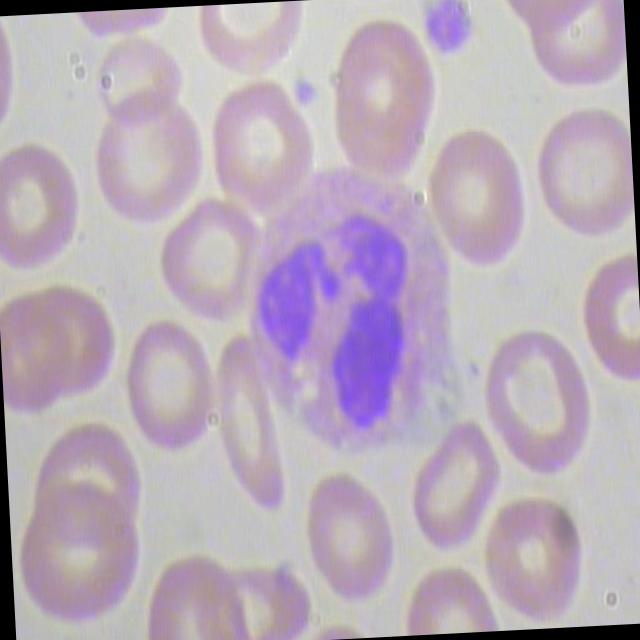Platelets: (419, 0, 478, 67), (288, 77, 325, 109)
RBC: (474, 318, 604, 486), (418, 121, 534, 290), (10, 491, 144, 631), (88, 100, 208, 236), (200, 83, 320, 219), (330, 22, 440, 165), (13, 282, 122, 426), (156, 193, 264, 334), (480, 492, 588, 632), (402, 420, 507, 558), (532, 110, 636, 248), (120, 321, 220, 464), (213, 335, 292, 516), (302, 466, 402, 608), (0, 137, 97, 278), (521, 0, 627, 94), (90, 34, 187, 136)
WBC: (226, 160, 483, 462)
